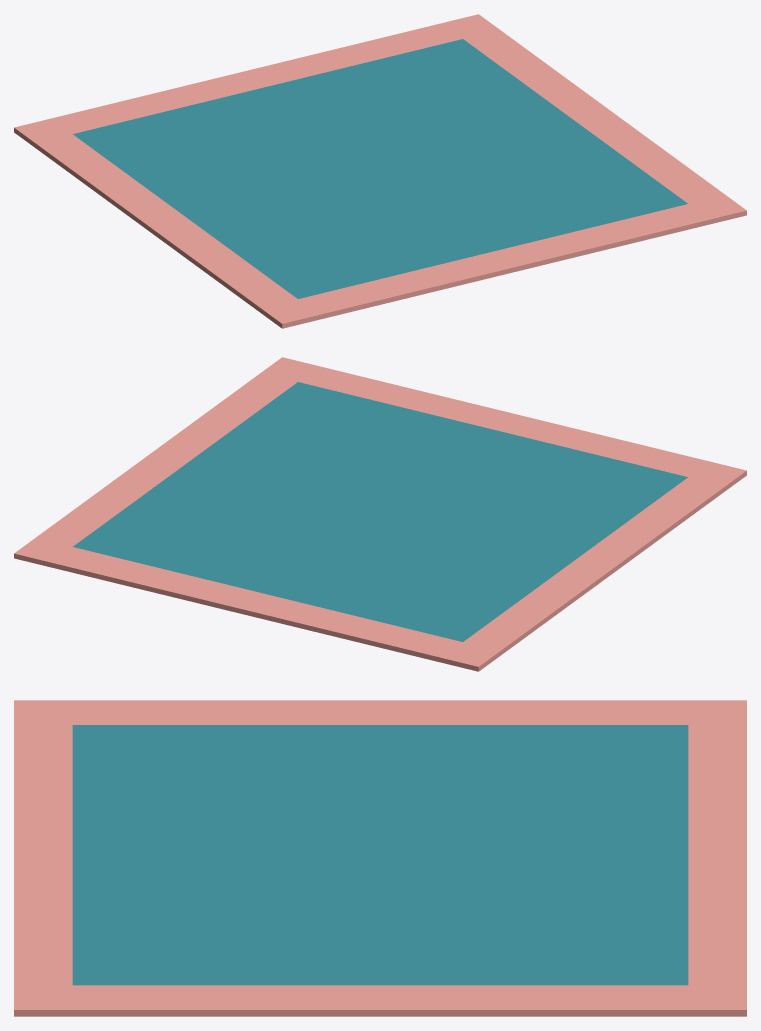
File: bb_set_rug.fbx
3 views of the same model, one above another, from view 1: azimuth 30°, elevation 25°; view 2: azimuth 150°, elevation 25°; view 3: azimuth 270°, elevation 25° (orthographic). The views are drawn at different scales.
Parts seen in each view (by area): view 1: bb_set_rug; view 2: bb_set_rug; view 3: bb_set_rug.
Part boxes in pixels (x1,y1,x2,y2): bb_set_rug: (14,14,746,328); bb_set_rug: (14,357,746,671); bb_set_rug: (14,700,746,1016).
Bounding box in the file's own units: 1 × 0.01 × 1.
